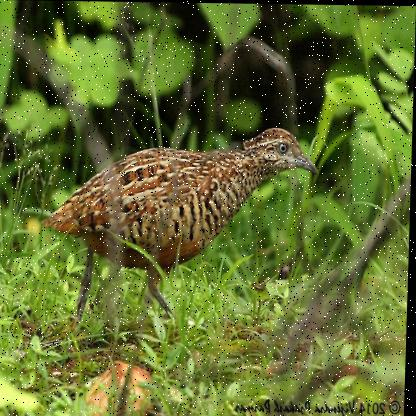Burung: (41, 124, 321, 335)
